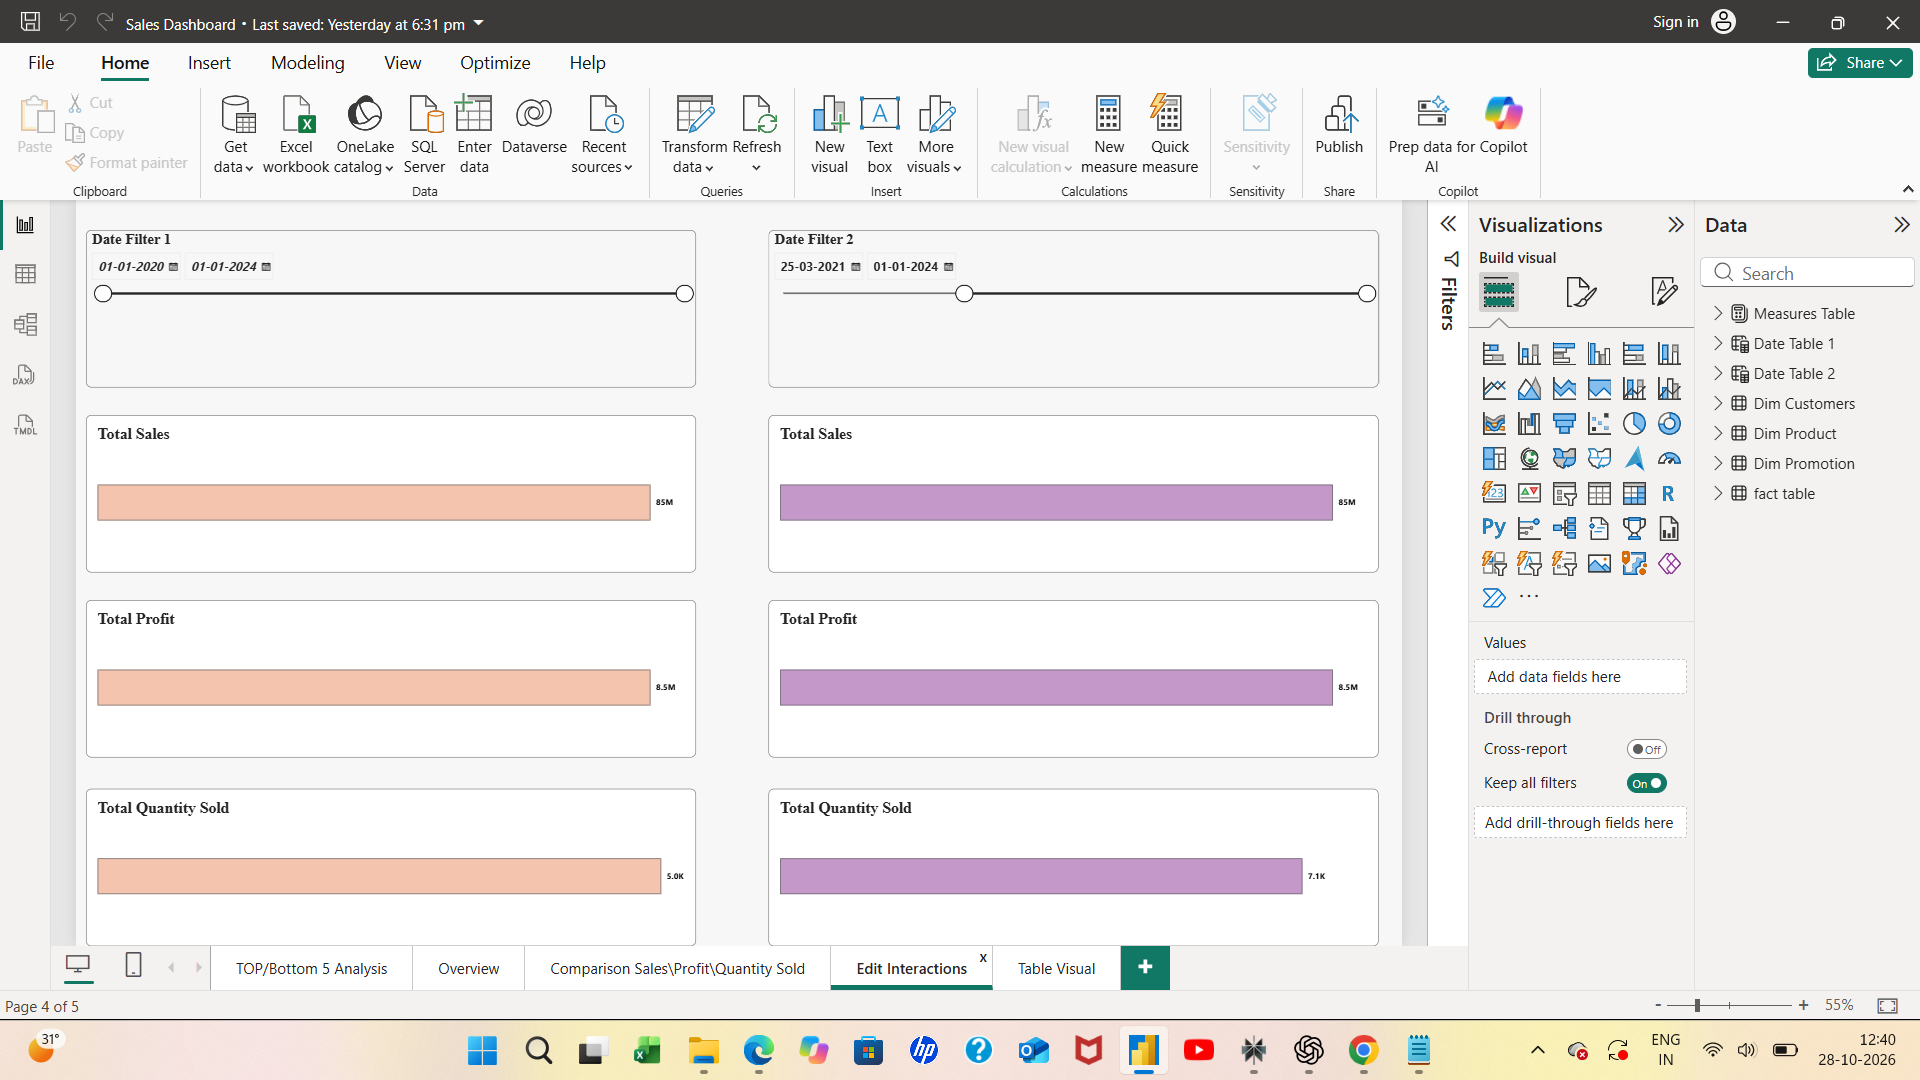

This screenshot's page, from the dashboard's own definition file:
{"tool":"powerbi","page":{"name":"Edit Interactions","canvas":[1920,1080],"ordinal":3},"visuals":[{"type":"slicer","fields":{"Values":["fact table.Date (dd/mm/yyyy)"]},"box":[14.5,43.4,883.1,228],"z":0},{"type":"slicer","fields":{"Values":["fact table.Date (dd/mm/yyyy)"]},"box":[1002.6,43.4,883.1,228],"z":1},{"type":"clusteredBarChart","fields":{"Y":["Sum(fact table.Net Sales  )"]},"box":[14.5,311.3,883,228],"z":2},{"type":"clusteredBarChart","fields":{"Y":["Sum(fact table.Profit)"]},"box":[14.5,579.1,883,228],"z":3},{"type":"clusteredBarChart","fields":{"Y":["Sum(fact table.Units Sold)"]},"box":[14.5,852.4,883,228],"z":4},{"type":"clusteredBarChart","fields":{"Y":["Sum(fact table.Profit)"]},"box":[1002.6,579.1,883,228],"z":5},{"type":"clusteredBarChart","fields":{"Y":["Sum(fact table.Net Sales  )"]},"box":[1002.6,311.3,883,228],"z":6},{"type":"clusteredBarChart","fields":{"Y":["Sum(fact table.Units Sold)"]},"box":[1002.6,852.4,883,228],"z":7}]}

Visuals, with their boxes on the page's 1920x1080 design canvas (x1, y1, x2, y2). These are canvas units, not pixel positions in the 1920x1080 screenshot, which may show the page scaled, cropped or inside an application window:
slicer - fact table.Date (dd/mm/yyyy): BBox(14, 43, 898, 271)
slicer - fact table.Date (dd/mm/yyyy): BBox(1003, 43, 1886, 271)
clusteredBarChart - Sum(fact table.Net Sales  ): BBox(14, 311, 898, 539)
clusteredBarChart - Sum(fact table.Profit): BBox(14, 579, 898, 807)
clusteredBarChart - Sum(fact table.Units Sold): BBox(14, 852, 898, 1080)
clusteredBarChart - Sum(fact table.Profit): BBox(1003, 579, 1886, 807)
clusteredBarChart - Sum(fact table.Net Sales  ): BBox(1003, 311, 1886, 539)
clusteredBarChart - Sum(fact table.Units Sold): BBox(1003, 852, 1886, 1080)
